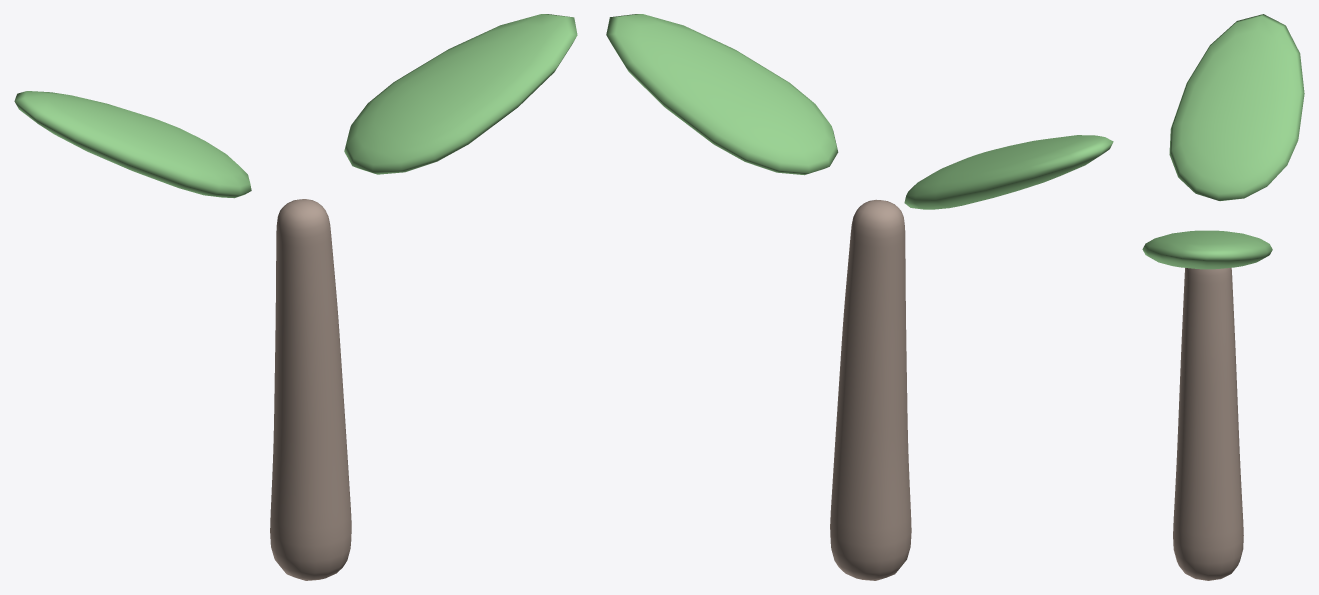
File: tree_seed_1.glb
The picture shows the model from 3 angles, left to right: view 1: azimuth 30°, elevation 25°; view 2: azimuth 150°, elevation 25°; view 3: azimuth 270°, elevation 25°; orthographic projection. The views are drawn at different scales.
Visible parts, largest first — view 1: trunk, leaf_0, leaf_1; view 2: trunk, leaf_0, leaf_1; view 3: leaf_1, trunk, leaf_0.
Boxes of the visible parts, <box> form: trunk: <box>270,199,351,580</box>; leaf_0: <box>344,14,577,174</box>; leaf_1: <box>14,91,251,198</box>; trunk: <box>830,199,911,580</box>; leaf_0: <box>606,14,838,175</box>; leaf_1: <box>904,135,1113,209</box>; leaf_1: <box>1169,14,1304,201</box>; trunk: <box>1173,268,1243,580</box>; leaf_0: <box>1142,230,1272,269</box>.
Size of the model in its own units: 0.4592 by 0.4314 by 0.1403.
